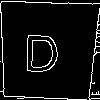D: (23, 25, 61, 72)
